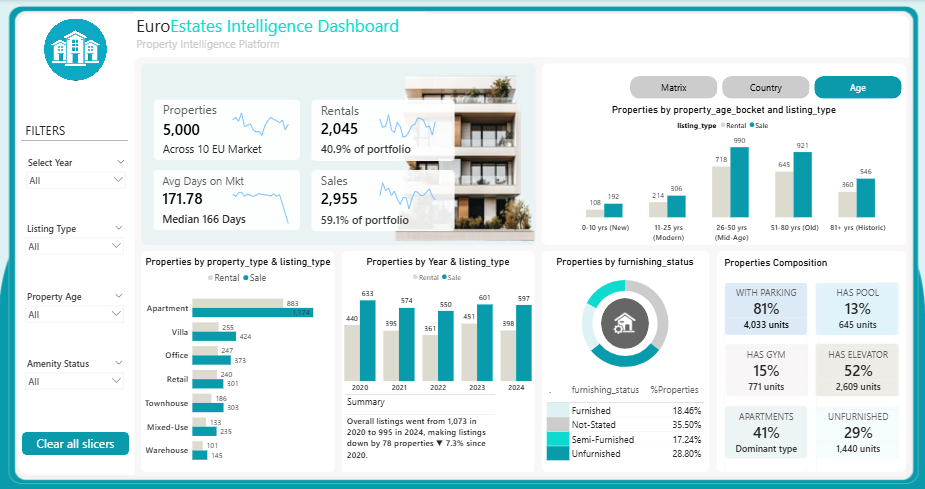

What the dashboard file says about the page in this screenshot:
{"tool":"powerbi","page":{"name":"Page 1","canvas":[2040,1080],"ordinal":0},"visuals":[{"type":"cardVisual","fields":{"Data":["Measures (2).Properties"]},"box":[343.8,224.8,273.3,154.3],"z":0},{"type":"cardVisual","fields":{"Data":["Measures (2).Rentals"]},"box":[692.1,224.8,264.5,154.3],"z":1000},{"type":"cardVisual","fields":{"Data":["Measures (2).Sales"]},"box":[692.1,376.9,264.5,163.1],"z":2000},{"type":"cardVisual","fields":{"Data":["Measures (2).Avg Days On Market"]},"box":[330.6,372.5,306.4,167.5],"z":3000},{"type":"lineChart","fields":{"Y":["Measures (2).Properties"],"Category":["D_Date.Date.Variation.Date Hierarchy.Year","D_Date.Date.Variation.Date Hierarchy.Quarter"]},"box":[500.3,224.8,152.1,92.6],"z":4000},{"type":"lineChart","fields":{"Y":["Measures (2).Rentals"],"Category":["D_Date.Date.Variation.Date Hierarchy.Year","D_Date.Date.Variation.Date Hierarchy.Quarter"]},"box":[824.3,220.4,152.1,92.6],"z":5000},{"type":"lineChart","fields":{"Y":["Measures (2).Avg Days on Mkt"],"Category":["D_Date.Date.Variation.Date Hierarchy.Year","D_Date.Date.Variation.Date Hierarchy.Quarter"]},"box":[500.3,410,152.1,92.6],"z":6000},{"type":"lineChart","fields":{"Y":["Measures (2).Sales"],"Category":["D_Date.Date.Variation.Date Hierarchy.Year","D_Date.Date.Variation.Date Hierarchy.Quarter"]},"box":[824.3,379.1,152.1,92.6],"z":7000},{"type":"clusteredBarChart","title":"Properties by property_type & listing_type","fields":{"Category":["F_Properties.property_type"],"Series":["F_Properties.listing_type"],"Y":["Measures (2).Properties"]},"box":[315.2,566.4,423.2,476.1],"z":8000},{"type":"clusteredColumnChart","title":"Properties by Year & listing_type","fields":{"Category":["D_Date.Date.Variation.Date Hierarchy.Year"],"Series":["F_Properties.listing_type"],"Y":["Measures (2).Properties"]},"box":[756,566.4,423.2,310.8],"z":9000},{"type":"clusteredColumnChart","fields":{"Y":["Measures (2).Properties"],"Category":["F_Properties.property_age_bocket"],"Series":["F_Properties.listing_type"]},"box":[1199.4,231.8,797.9,310.8],"z":10000,"group":"g1"},{"type":"donutChart","fields":{"Y":["D_Dax.Properties"],"Category":["F_Properties.furnishing_status"]},"box":[1201.2,566.4,357.1,273.3],"z":10000},{"type":"tableEx","fields":{"Values":["D_Dax.Icon","F_Properties.furnishing_status","D_Dax.Properties"]},"box":[1201.2,839.8,357.1,202.8],"z":11000},{"type":"shape","box":[1326.9,659,105.8,112.4],"z":12000},{"type":"cardVisual","fields":{"Data":["D_Dax.%Pool"]},"box":[1800.7,626,182.9,149.9],"z":13000},{"type":"cardVisual","fields":{"Data":["D_Dax.%Parking"]},"box":[1593.6,626,194,149.9],"z":14000},{"type":"cardVisual","fields":{"Data":["D_Dax.%Gym"]},"box":[1593.6,762.6,194,149.9],"z":15000},{"type":"cardVisual","fields":{"Data":["D_Dax.%Elevator"]},"box":[1796.3,762.6,194,149.9],"z":16000},{"type":"cardVisual","fields":{"Data":["D_Dax.%Apartment"]},"box":[1593.6,899.3,194,149.9],"z":17000},{"type":"cardVisual","fields":{"Data":["D_Dax.%Unfurnished"]},"box":[1796.3,899.3,194,149.9],"z":18000},{"type":"tableEx","fields":{"Values":["D_Dax.Listing_Trend_Summary"]},"box":[756,866.2,423.2,176.3],"z":19000},{"type":"textbox","box":[297.6,28.7,641.4,97],"z":20000},{"type":"slicer","fields":{"Values":["D_Date.Year"]},"box":[50.7,341.6,238,114.6],"z":21000},{"type":"bookmarkNavigator","box":[1390.8,169.7,599.5,50.7],"z":22000},{"type":"group","id":"g1","title":"Group 1","box":[1197.2,230,800.1,312.6],"z":23000},{"type":"slicer","fields":{"Values":["F_Properties.listing_type"]},"box":[48.5,487.1,235.8,114.6],"z":24000},{"type":"slicer","fields":{"Values":["F_Properties.property_age"]},"box":[48.5,637,235.8,114.6],"z":25000},{"type":"slicer","fields":{"Values":["D_Amenities.status"]},"box":[48.5,784.7,235.8,114.6],"z":26000},{"type":"textbox","title":"Properties Composition","box":[1593.6,568.7,339.4,57.3],"z":27000},{"type":"actionButton","box":[50.7,954.4,235.8,50.7],"z":28000},{"type":"image","box":[48.5,28.7,240.2,171.9],"z":29000},{"type":"textbox","box":[52.9,266.7,233.6,57.3],"z":30000},{"type":"shape","box":[48.5,231.4,235.8,160.9],"z":31000},{"type":"image","box":[1309.2,659,141.1,114.6],"z":32000}]}

Visuals, with their boxes in screenshot pixels (x1, y1, x2, y2), scaled from the page's 2040x1080 canvas onto the 925x489 screenshot:
cardVisual - Measures (2).Properties: region(156, 102, 280, 172)
cardVisual - Measures (2).Rentals: region(314, 102, 434, 172)
cardVisual - Measures (2).Sales: region(314, 171, 434, 244)
cardVisual - Measures (2).Avg Days On Market: region(150, 169, 289, 244)
lineChart - Measures (2).Properties x D_Date.Date.Variation.Date Hierarchy.Year: region(227, 102, 296, 144)
lineChart - Measures (2).Rentals x D_Date.Date.Variation.Date Hierarchy.Year: region(374, 100, 443, 142)
lineChart - Measures (2).Avg Days on Mkt x D_Date.Date.Variation.Date Hierarchy.Year: region(227, 186, 296, 228)
lineChart - Measures (2).Sales x D_Date.Date.Variation.Date Hierarchy.Year: region(374, 172, 443, 214)
"Properties by property_type & listing_type" clusteredBarChart: region(143, 256, 335, 472)
"Properties by Year & listing_type" clusteredColumnChart: region(343, 256, 535, 397)
clusteredColumnChart - Measures (2).Properties x F_Properties.property_age_bocket: region(544, 105, 906, 246)
donutChart - D_Dax.Properties x F_Properties.furnishing_status: region(545, 256, 707, 380)
tableEx - D_Dax.Icon x F_Properties.furnishing_status: region(545, 380, 707, 472)
shape: region(602, 298, 650, 349)
cardVisual - D_Dax.%Pool: region(816, 283, 899, 351)
cardVisual - D_Dax.%Parking: region(723, 283, 811, 351)
cardVisual - D_Dax.%Gym: region(723, 345, 811, 413)
cardVisual - D_Dax.%Elevator: region(814, 345, 902, 413)
cardVisual - D_Dax.%Apartment: region(723, 407, 811, 475)
cardVisual - D_Dax.%Unfurnished: region(814, 407, 902, 475)
tableEx - D_Dax.Listing_Trend_Summary: region(343, 392, 535, 472)
textbox: region(135, 13, 426, 57)
slicer - D_Date.Year: region(23, 155, 131, 207)
bookmarkNavigator: region(631, 77, 902, 100)
"Group 1" group: region(543, 104, 906, 246)
slicer - F_Properties.listing_type: region(22, 221, 129, 272)
slicer - F_Properties.property_age: region(22, 288, 129, 340)
slicer - D_Amenities.status: region(22, 355, 129, 407)
"Properties Composition" textbox: region(723, 257, 876, 283)
actionButton: region(23, 432, 130, 455)
image: region(22, 13, 131, 91)
textbox: region(24, 121, 130, 147)
shape: region(22, 105, 129, 178)
image: region(594, 298, 658, 350)
